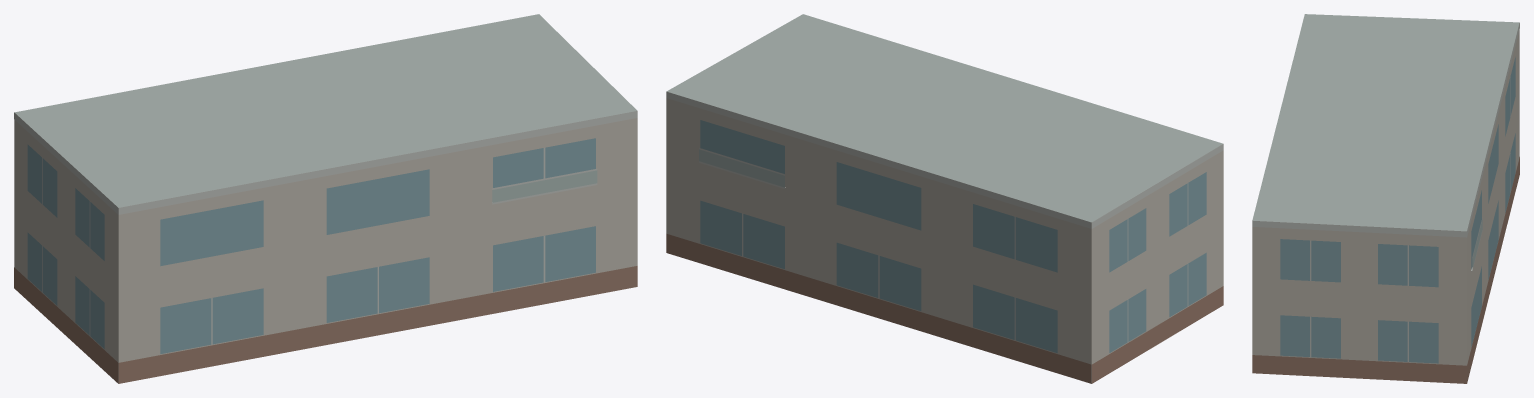
The model's file is survey-upis-32566581.glb.
3 views of the same model, side by side, from view 1: azimuth 30°, elevation 25°; view 2: azimuth 150°, elevation 25°; view 3: azimuth 270°, elevation 25° (orthographic). The views are drawn at different scales.
Visible parts, largest first — view 1: survey-upis-32566581.tmp; view 2: survey-upis-32566581.tmp; view 3: survey-upis-32566581.tmp.
Boxes of the visible parts, bbox=[...] form: survey-upis-32566581.tmp: bbox=[14, 14, 637, 383]; survey-upis-32566581.tmp: bbox=[666, 14, 1223, 383]; survey-upis-32566581.tmp: bbox=[1252, 14, 1519, 383].
Size of the model in its own units: 18.66 by 6.1 by 9.71.
